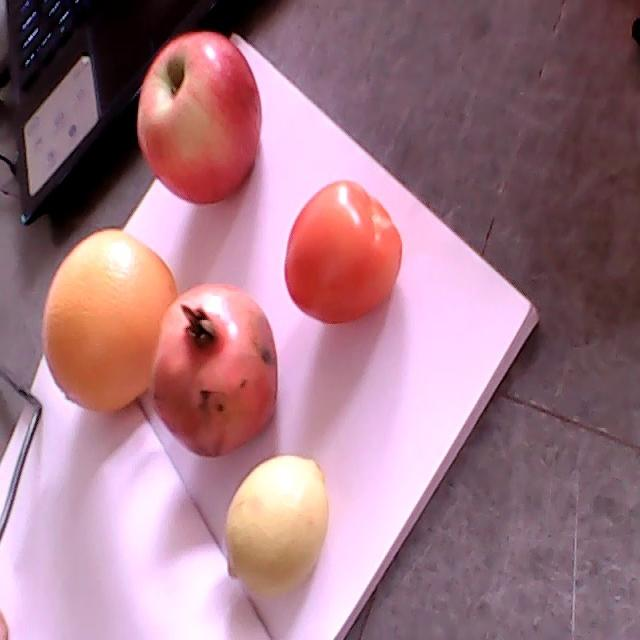apple: (138, 31, 262, 207)
lemon: (223, 455, 326, 593)
orange: (40, 229, 180, 411)
pomegranate: (149, 284, 278, 460)
tomato: (287, 180, 400, 324)
